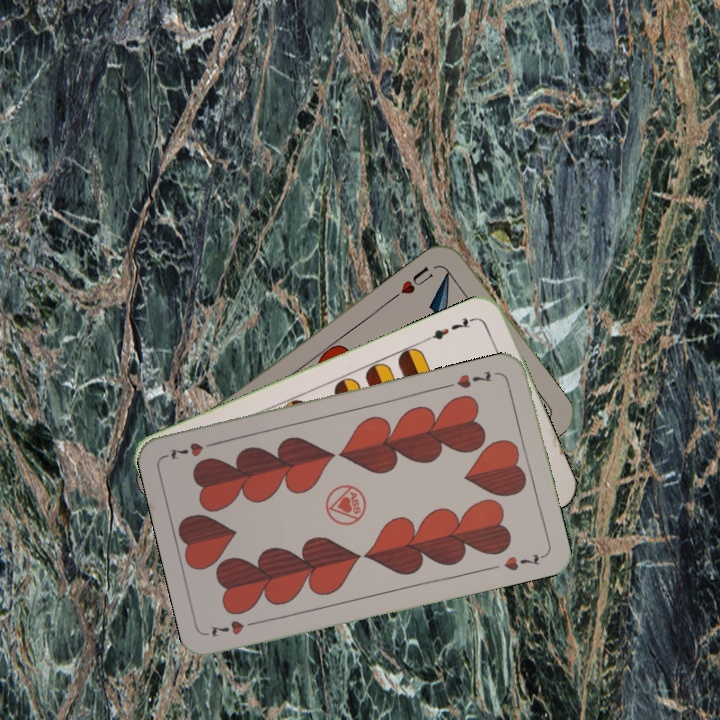E7: (422, 313, 479, 343)
H7: (206, 616, 263, 640), (452, 367, 495, 391)
HU: (389, 262, 436, 302)
